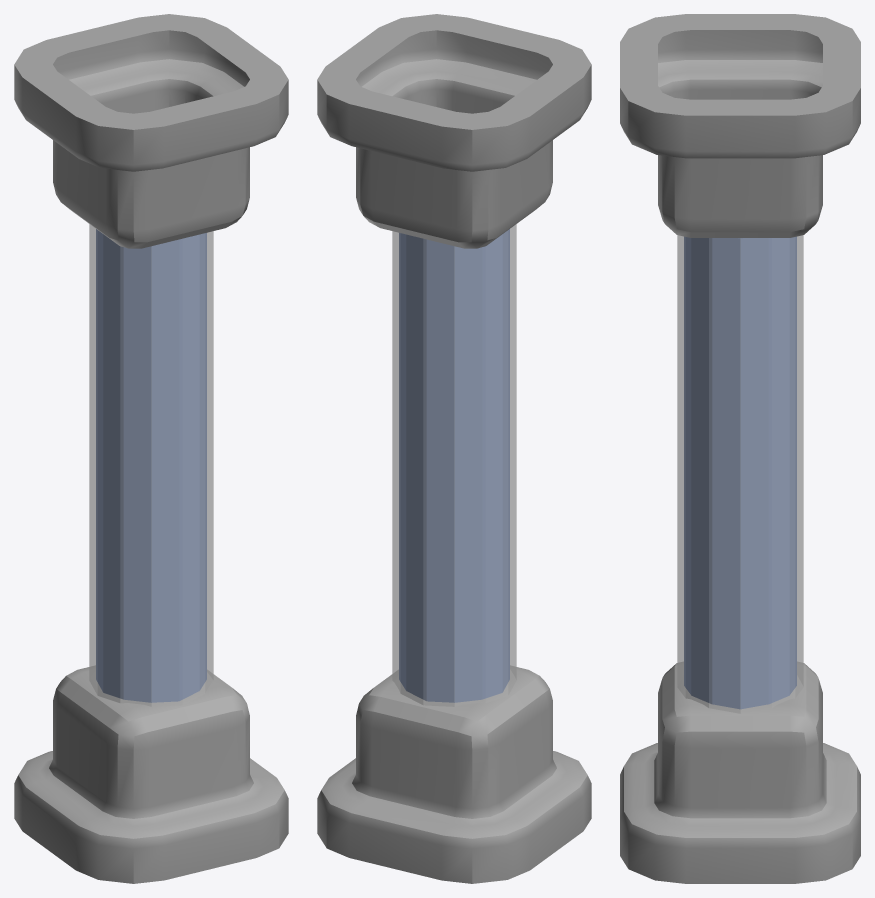
Rendered from Sheilds.fbx.
3 renders of one model, left to right at view 1: azimuth 30°, elevation 25°; view 2: azimuth 150°, elevation 25°; view 3: azimuth 270°, elevation 25°, orthographic.
Visible parts, largest first — view 1: pCylinder2, pCylinder1, pCube2, pCube1; view 2: pCylinder2, pCylinder1, pCube2, pCube1; view 3: pCylinder2, pCylinder1, pCube2, pCube1.
Part boxes in pixels (x1,y1,x2,y2): pCylinder2: (89, 224, 213, 706); pCylinder1: (96, 229, 206, 702); pCube2: (14, 14, 288, 248); pCube1: (14, 665, 288, 883); pCylinder2: (392, 224, 516, 706); pCylinder1: (399, 229, 509, 702); pCube2: (317, 14, 591, 248); pCube1: (317, 665, 591, 883); pCylinder2: (677, 235, 803, 713); pCylinder1: (684, 236, 796, 709); pCube2: (620, 14, 860, 237); pCube1: (620, 662, 860, 883).
Size of the model in its own units: 2.55 by 8.96 by 2.55.
